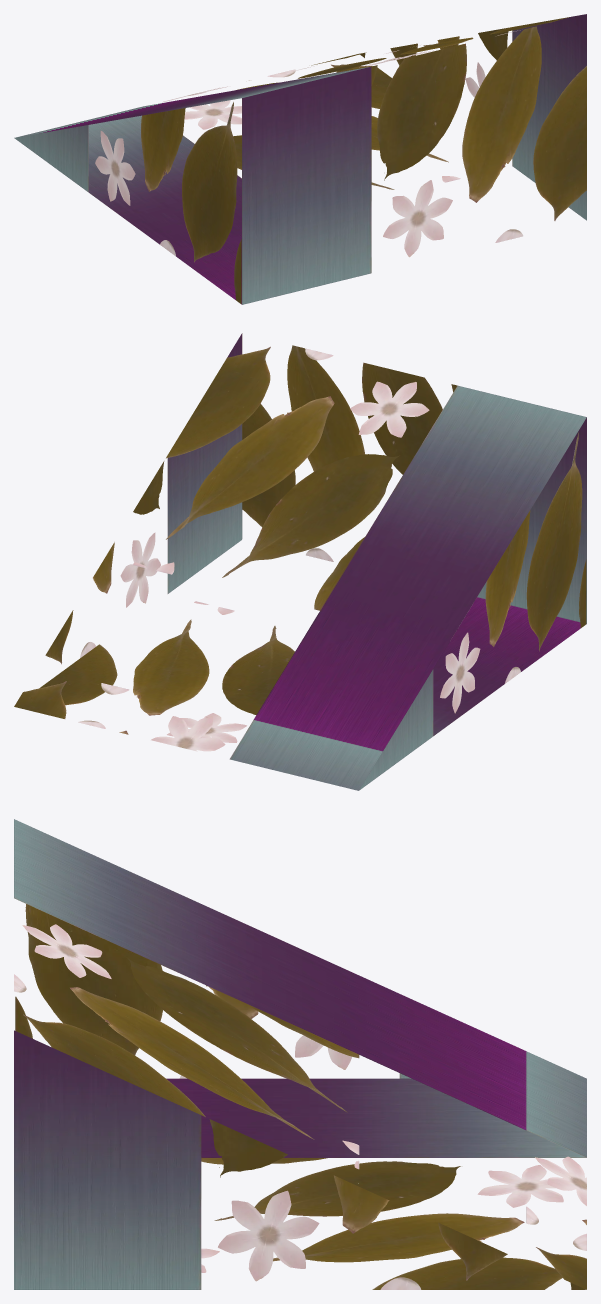
3 renders of one model, top to bottom at view 1: azimuth 30°, elevation 25°; view 2: azimuth 150°, elevation 25°; view 3: azimuth 270°, elevation 25°, orthographic. The views are drawn at different scales.
Parts seen in each view (by area): view 1: SM_DR_SolomonsSeal_02_LOD0; view 2: SM_DR_SolomonsSeal_02_LOD0; view 3: SM_DR_SolomonsSeal_02_LOD0.
Boxes of the visible parts, <box> form: SM_DR_SolomonsSeal_02_LOD0: <box>14,14,586,304</box>; SM_DR_SolomonsSeal_02_LOD0: <box>14,333,586,790</box>; SM_DR_SolomonsSeal_02_LOD0: <box>14,819,586,1289</box>.
Bounding box in the file's own units: 3.49 × 2 × 4.
